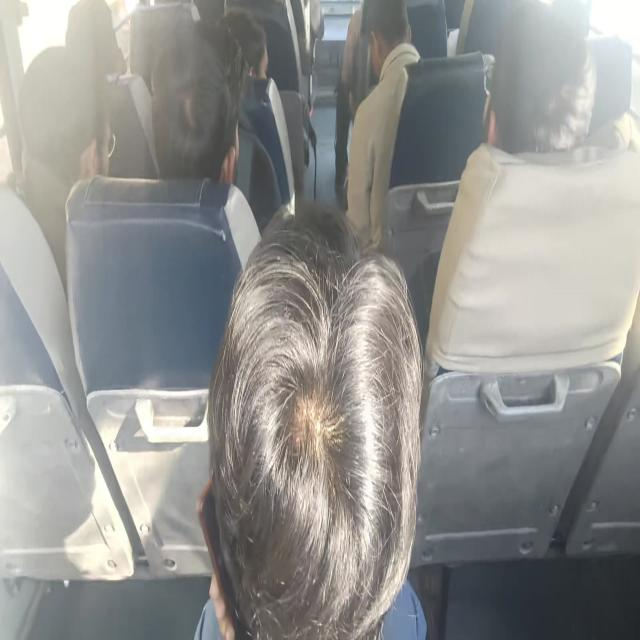person: (229, 227, 504, 640), (23, 57, 137, 232), (486, 28, 581, 168), (193, 20, 246, 212), (67, 11, 112, 94), (352, 0, 393, 55), (222, 1, 268, 44)
